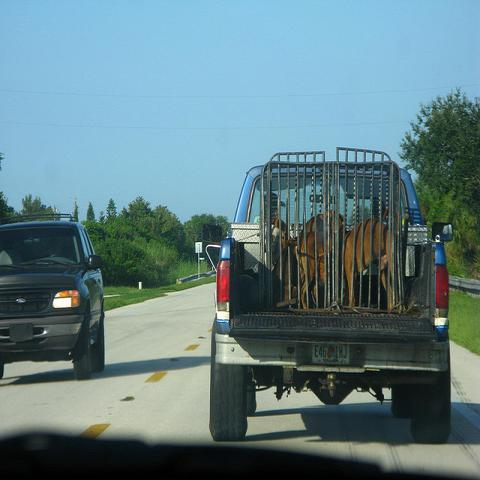car: (0, 224, 109, 376)
truck: (209, 142, 454, 442)
